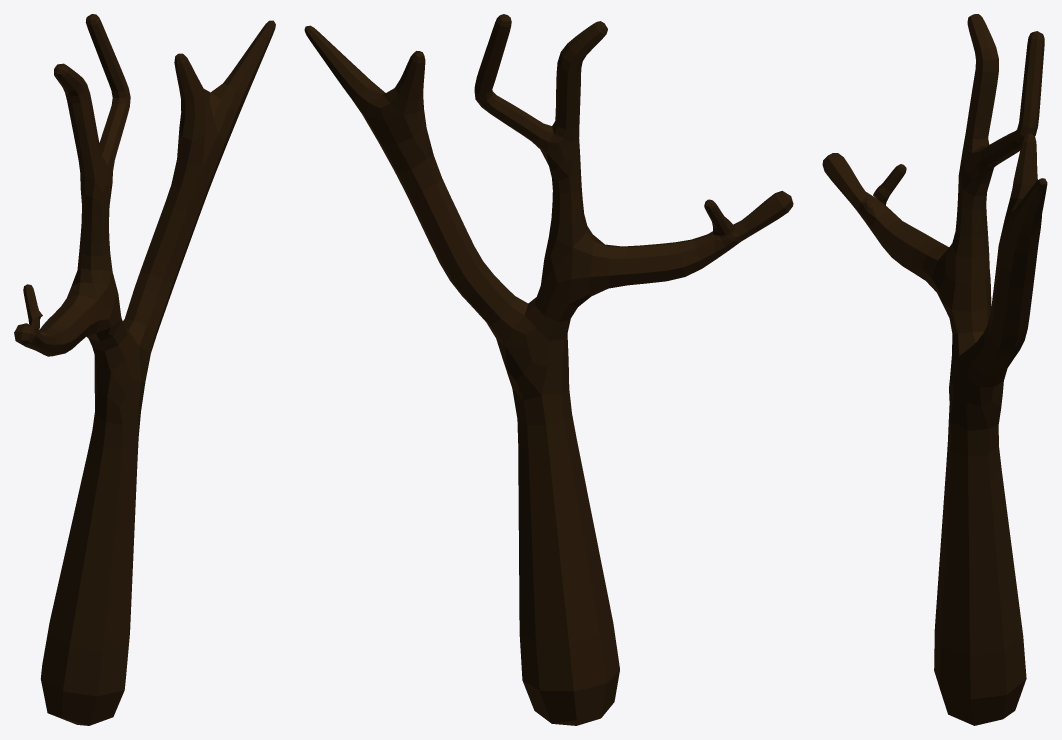
The model's file is jungle_tree_noleave1.fbx.
3 views of the same model, side by side, from view 1: azimuth 30°, elevation 25°; view 2: azimuth 150°, elevation 25°; view 3: azimuth 270°, elevation 25° (orthographic). The views are drawn at different scales.
Parts seen in each view (by area): view 1: Plane; view 2: Plane; view 3: Plane.
Boxes of the visible parts, left/top/right/bottom form: Plane: left=14, top=14, right=275, bottom=725; Plane: left=304, top=14, right=793, bottom=725; Plane: left=822, top=14, right=1047, bottom=725.
Size of the model in its own units: 508 by 916 by 264.
